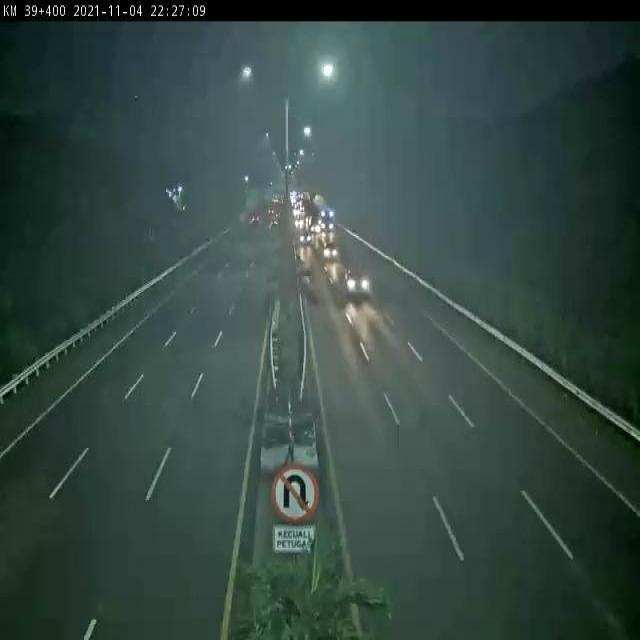car: (345, 264, 369, 297), (322, 242, 339, 262)
